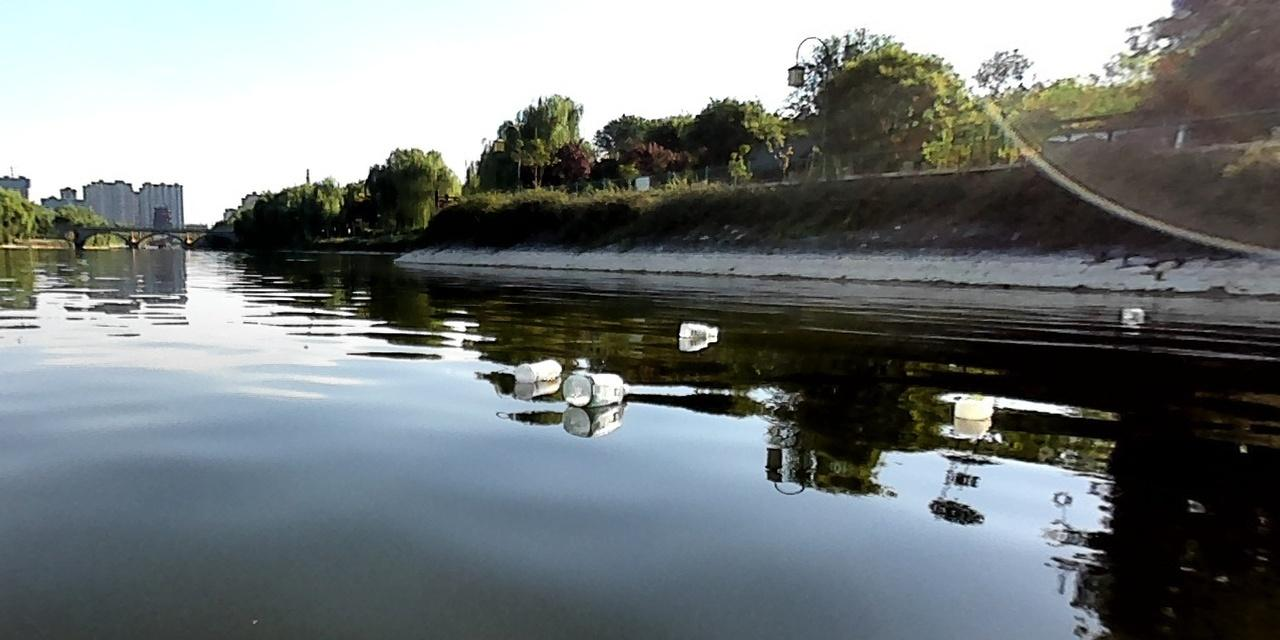bottle: (560, 368, 631, 409), (947, 396, 1001, 422), (511, 356, 562, 383), (673, 319, 721, 342), (1119, 303, 1147, 322)
